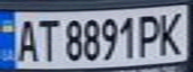1: (115, 12, 139, 60)
8: (60, 16, 84, 62), (81, 16, 103, 62)
9: (100, 15, 121, 61)
A: (12, 16, 42, 63)
K: (154, 8, 190, 56)
P: (136, 11, 163, 57)
T: (33, 16, 60, 63)
